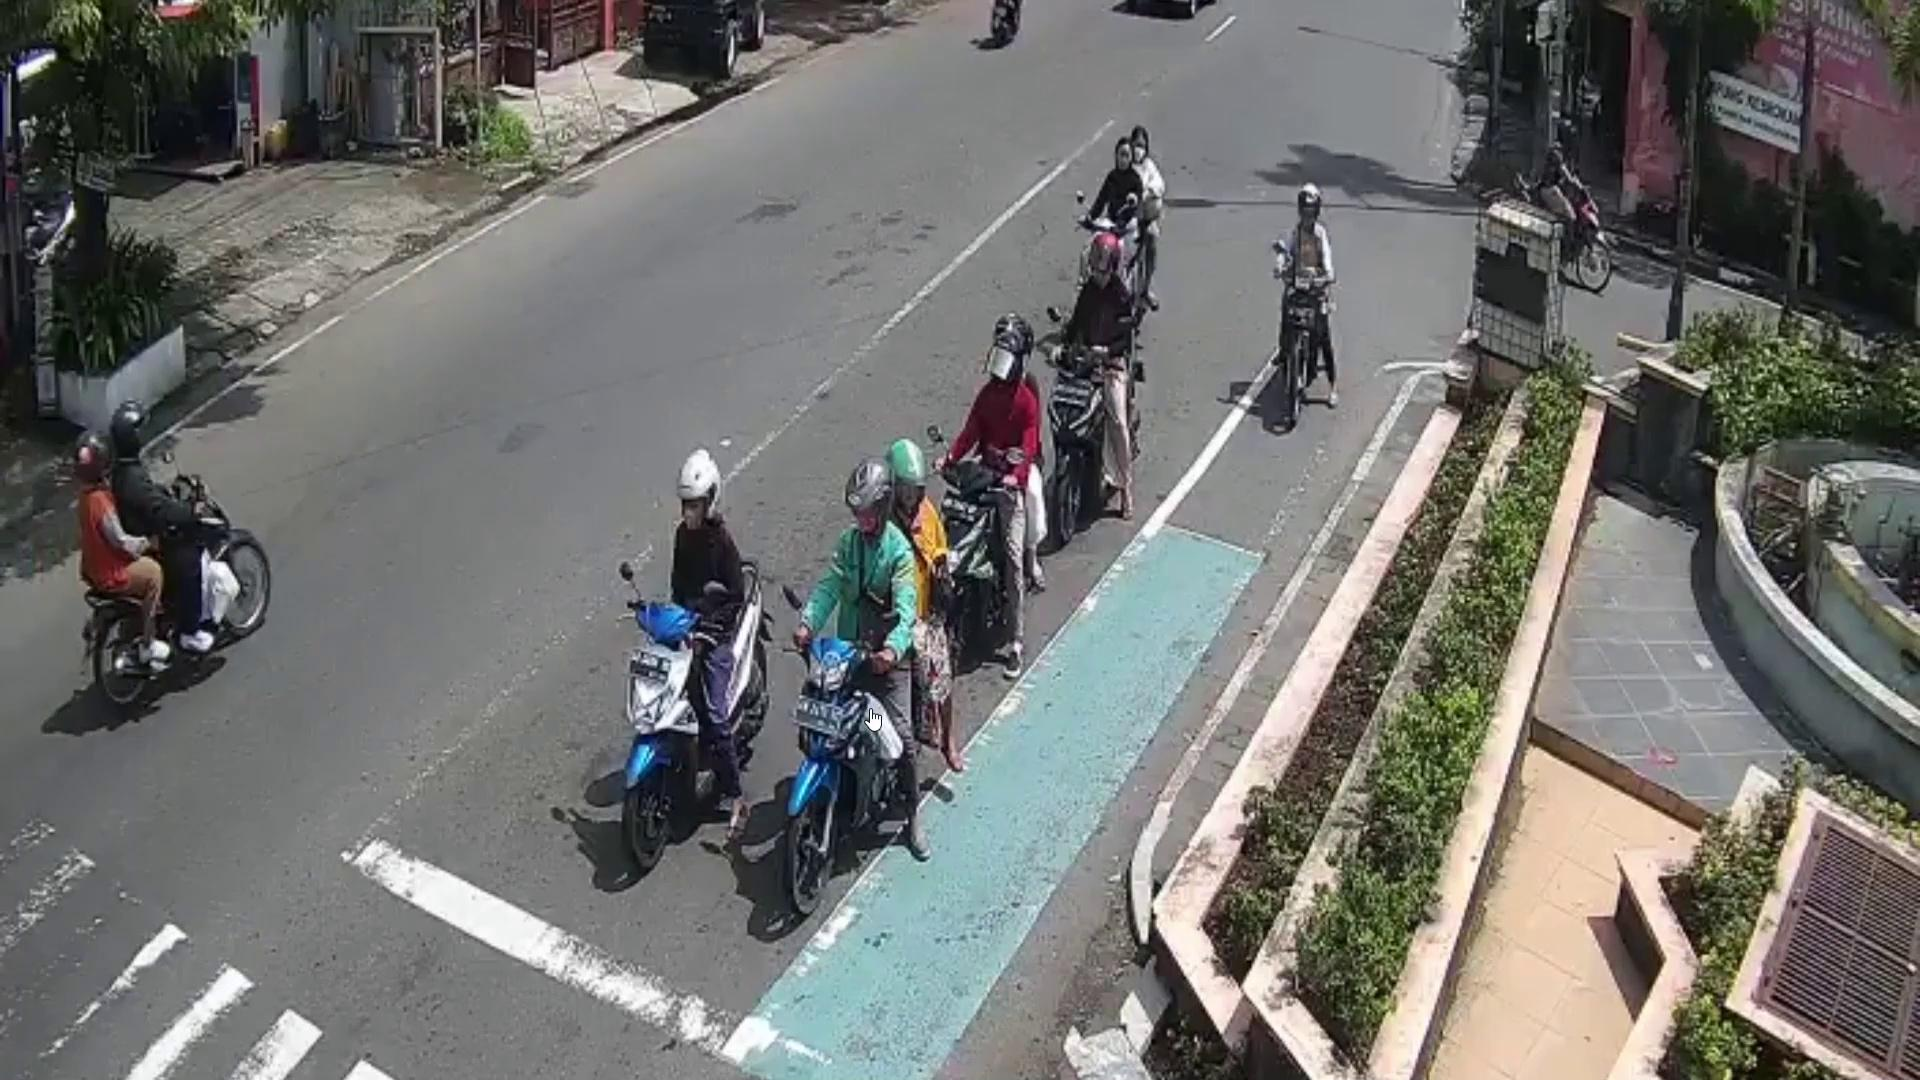motorbike: (777, 580, 951, 923), (615, 558, 777, 877), (82, 472, 276, 715), (924, 444, 1042, 705), (1046, 327, 1145, 539), (1494, 166, 1618, 297), (1071, 212, 1155, 345), (1273, 266, 1338, 429)
